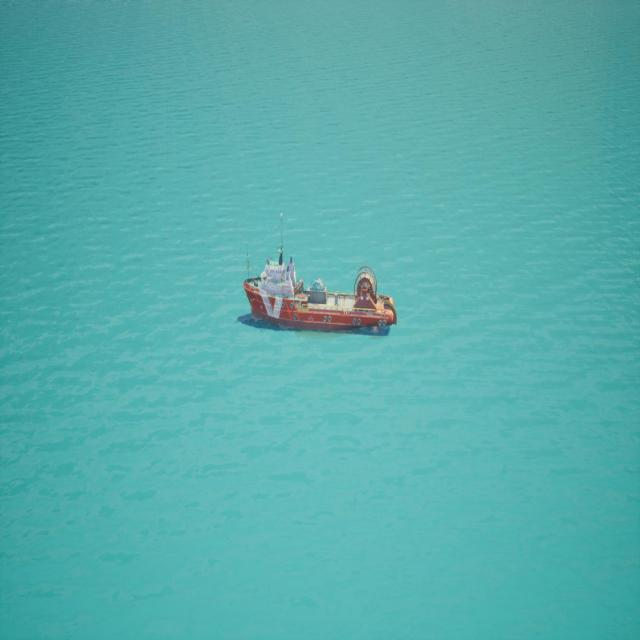tug boat: (241, 214, 400, 340)
